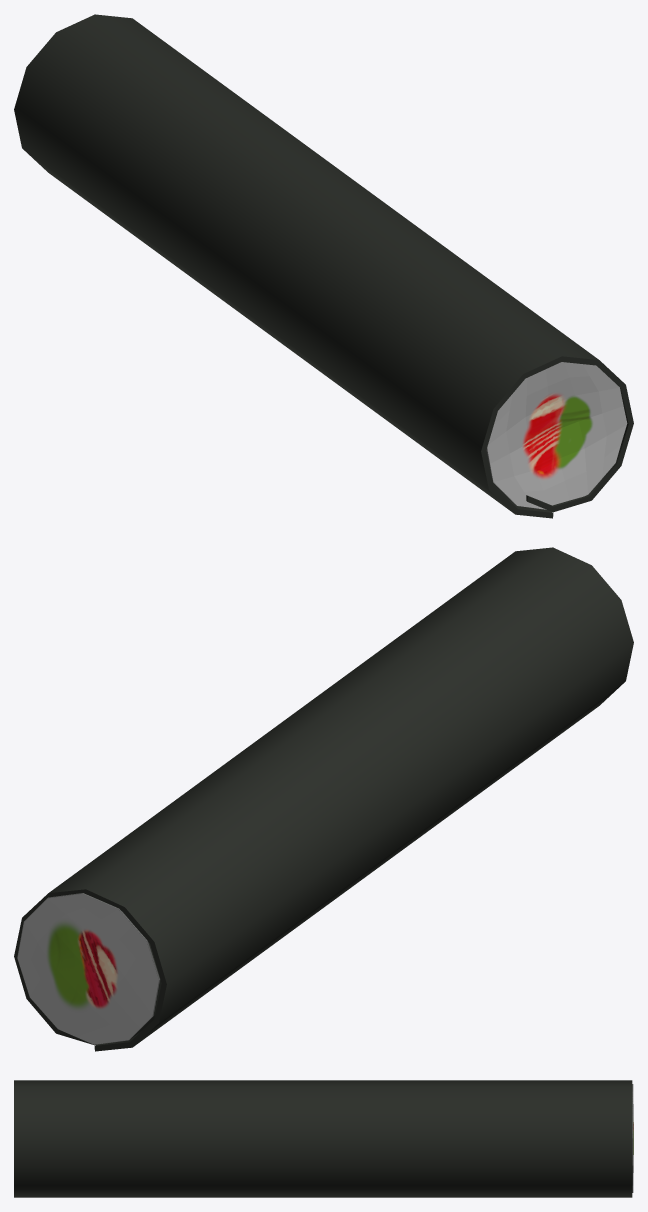
The model's file is Somon Salatalık Chumaki_u (1).fbx.
3 renders of one model, top to bottom at view 1: azimuth 30°, elevation 25°; view 2: azimuth 150°, elevation 25°; view 3: azimuth 270°, elevation 25°, orthographic. The views are drawn at different scales.
Visible parts, largest first — view 1: Somon Salatalık Chumaki; view 2: Somon Salatalık Chumaki; view 3: Somon Salatalık Chumaki.
Boxes of the visible parts, x1=… form: Somon Salatalık Chumaki: x1=14, y1=14, x2=633, y2=518; Somon Salatalık Chumaki: x1=14, y1=547, x2=633, y2=1051; Somon Salatalık Chumaki: x1=14, y1=1080, x2=633, y2=1197.
Size of the model in its own units: 190 by 190 by 1009.
